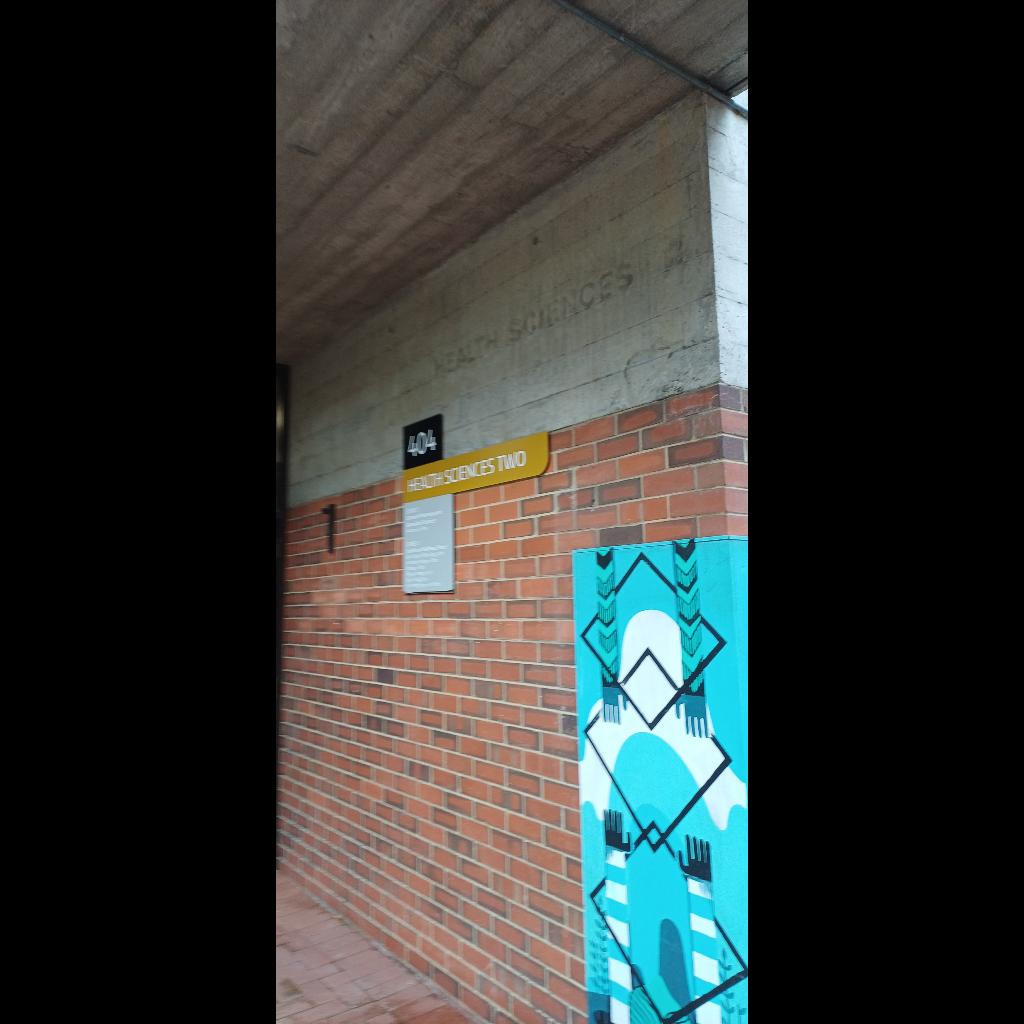BuildingCodes: (403, 429, 441, 455)
